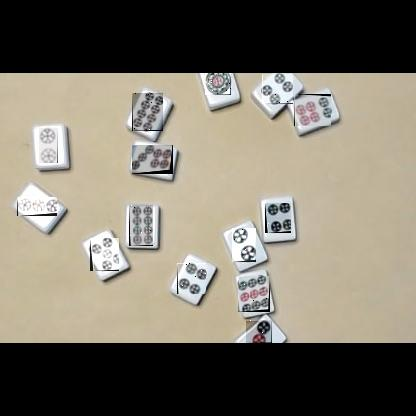1p: (205, 73, 231, 95)
2p: (232, 228, 256, 262), (39, 128, 58, 163)
3p: (17, 197, 57, 216), (246, 320, 272, 343)
4p: (262, 74, 293, 104), (177, 263, 206, 294), (265, 203, 291, 233)
5p: (90, 238, 119, 271)
6p: (294, 94, 331, 126)
7p: (132, 145, 173, 174)
8p: (132, 93, 163, 131), (129, 205, 153, 246)
9p: (238, 276, 270, 312)
